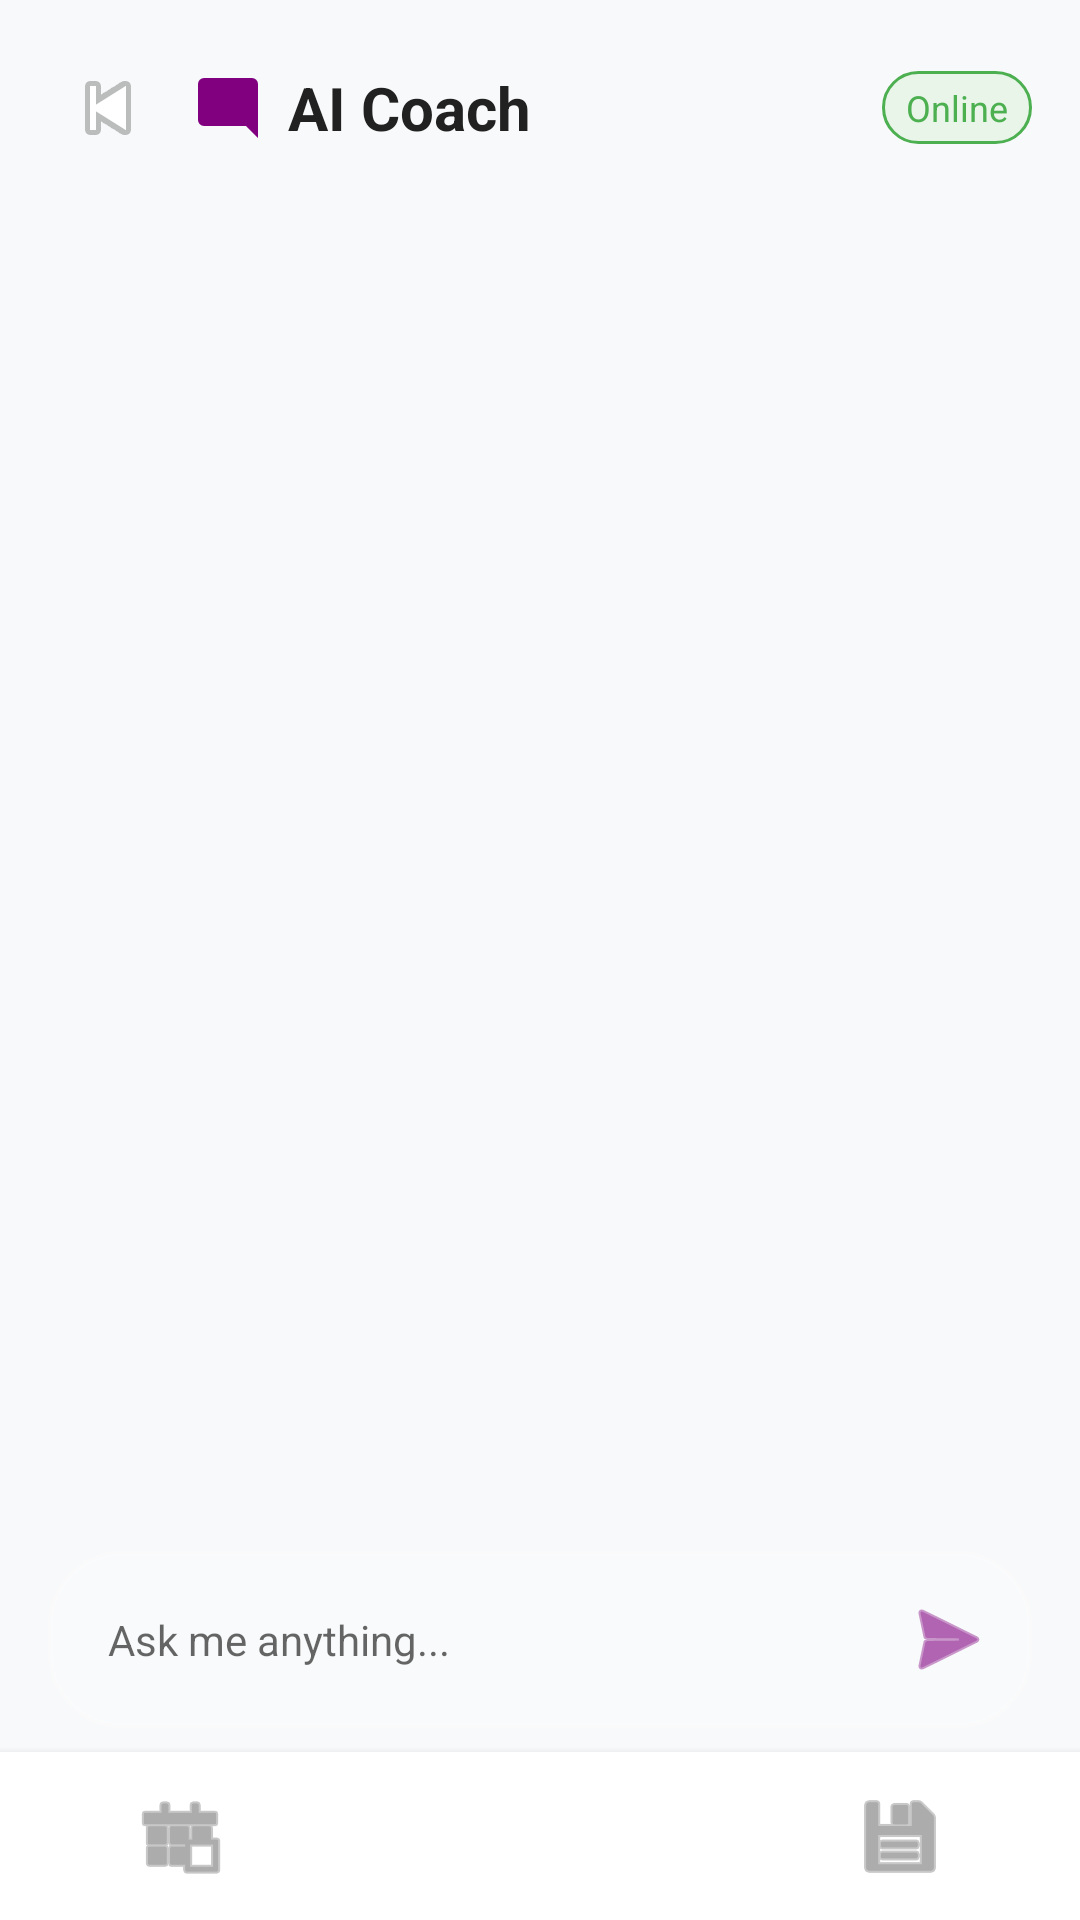

Icon click points for this 1080 x 1920 phone screenshot, format (x,y):
Back: (108,108)
chat bubble: (228,108)
send: (949,1639)
